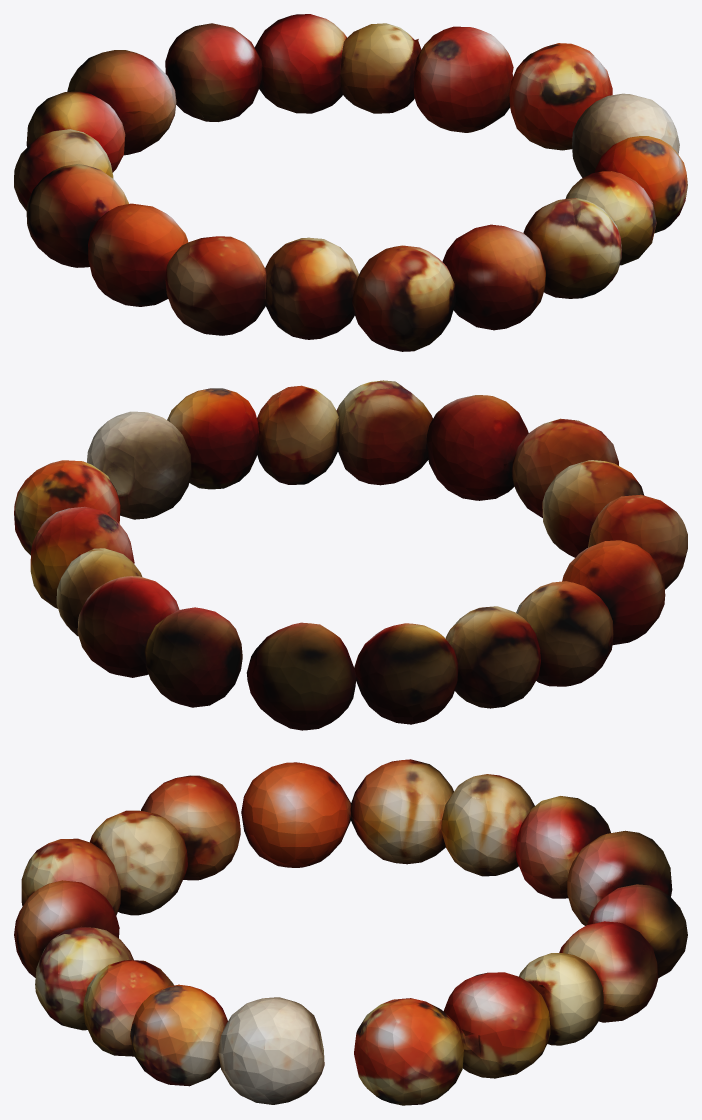
File: coral-bead-bracelet-aged-hyperrealistic-furniture.jpeg.glb
3 renders of one model, top to bottom at view 1: azimuth 30°, elevation 25°; view 2: azimuth 150°, elevation 25°; view 3: azimuth 270°, elevation 25°, orthographic.
Visible parts, largest first — view 1: world; view 2: world; view 3: world.
Part boxes in pixels (x1,y1,x2,y2): world: (14,14,687,351); world: (14,380,687,730); world: (14,759,687,1105).
Size of the model in its own units: 0.9941 by 0.1607 by 0.9915.
1 material, 1 textured.
